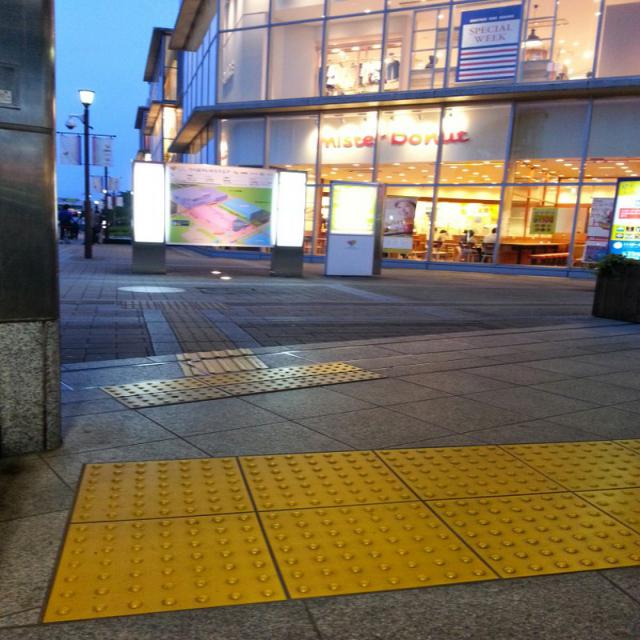tactile-guide-path: (45, 437, 639, 625), (97, 362, 388, 409), (164, 303, 266, 376)
